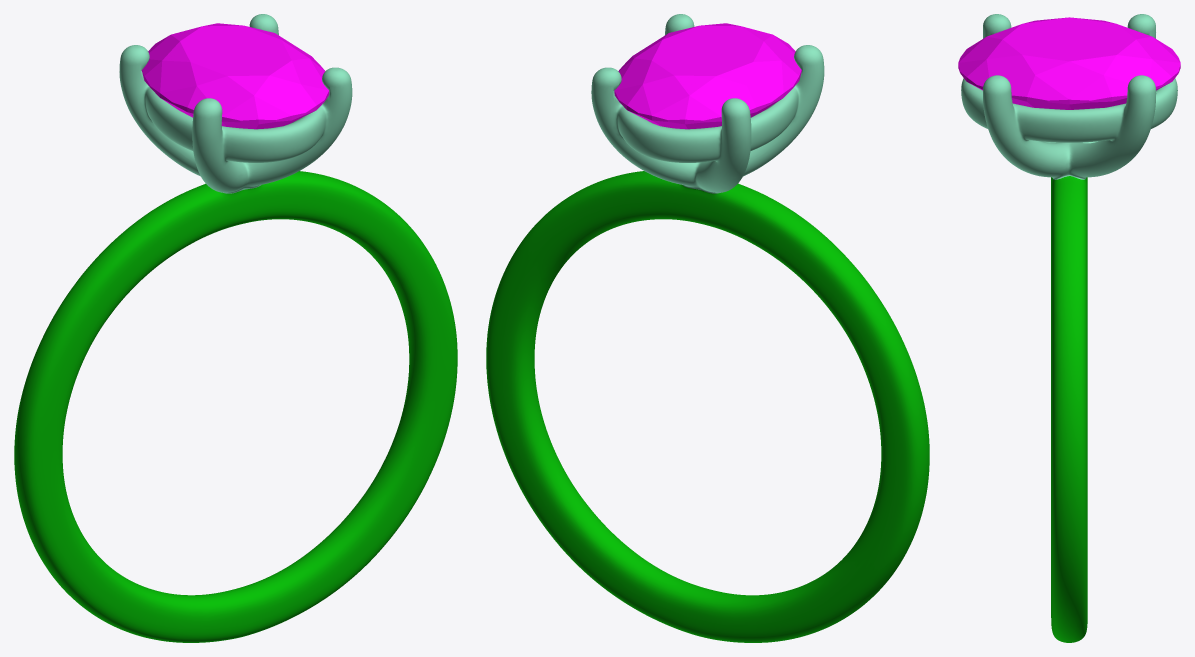
The model's file is BE14873_OV_200ct_RENDER.glb.
The picture shows the model from 3 angles, left to right: view 1: azimuth 30°, elevation 25°; view 2: azimuth 150°, elevation 25°; view 3: azimuth 270°, elevation 25°; orthographic projection.
Visible parts, largest first — view 1: Metal 01, Metal 02, CS_Diamond_Oval; view 2: Metal 01, Metal 02, CS_Diamond_Oval; view 3: Metal 01, CS_Diamond_Oval, Metal 02.
Part boxes in pixels (x1,y1,x2,y2): Metal 01: (14,171,457,642); Metal 02: (119,14,352,193); CS_Diamond_Oval: (141,23,329,129); Metal 01: (486,171,929,642); Metal 02: (591,14,824,193); CS_Diamond_Oval: (614,23,801,129); Metal 01: (1051,176,1087,642); CS_Diamond_Oval: (958,17,1180,109); Metal 02: (961,14,1177,179).
Bounding box in the file's own units: 20.47 × 26.17 × 9.1.
